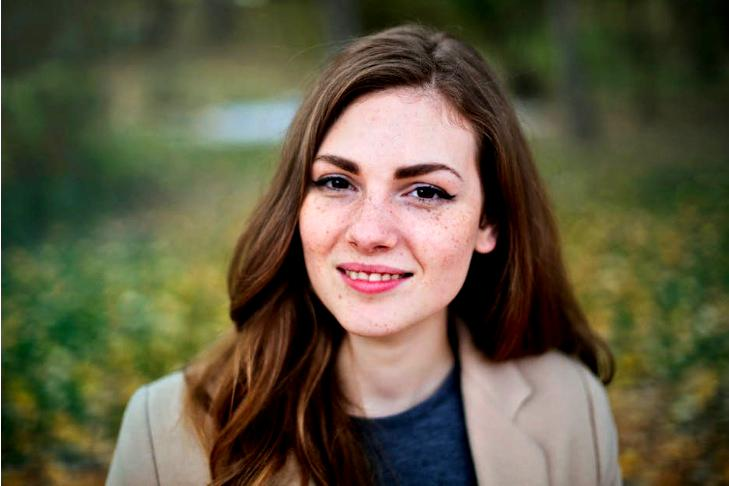face: (299, 90, 479, 340)
